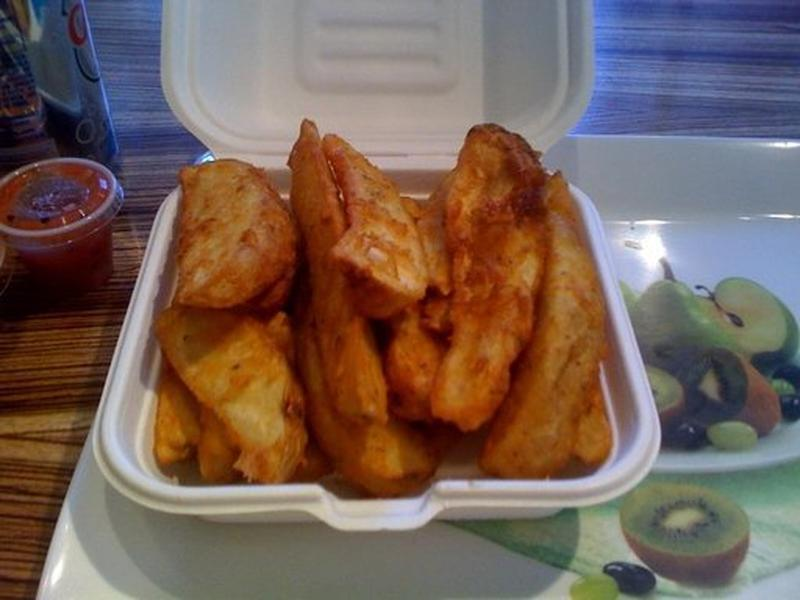french_fries: (161, 121, 618, 508)
